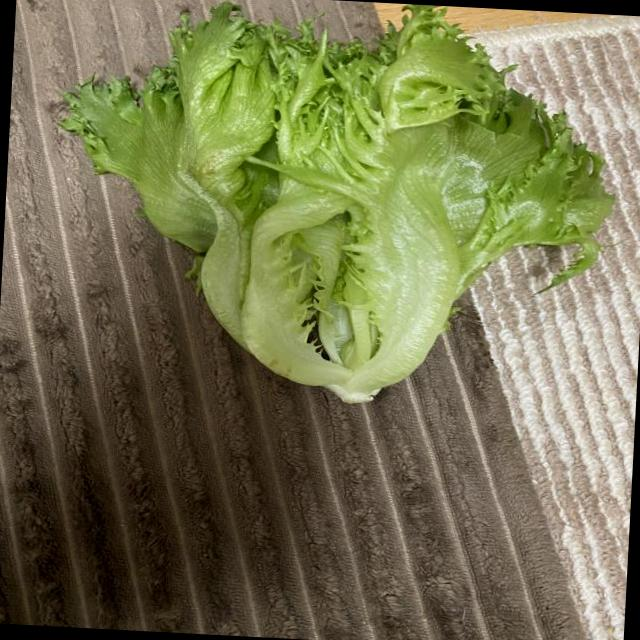Lettuce-Ready-to-Harvest: (64, 4, 613, 402)
